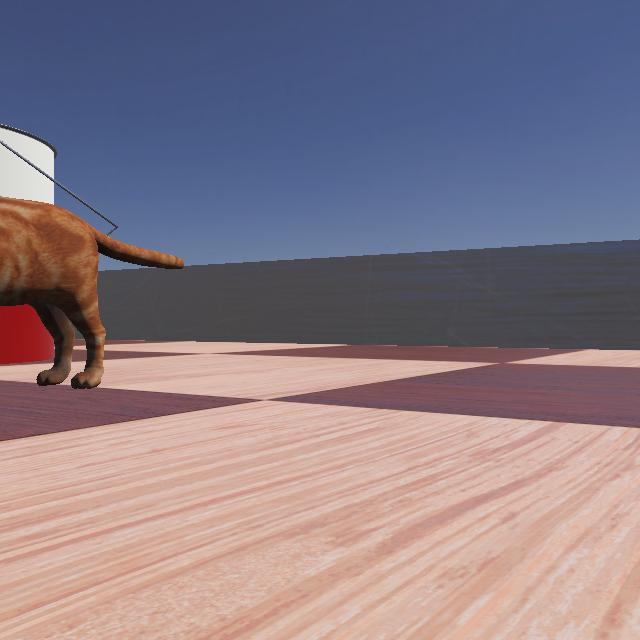cat: (1, 168, 190, 410)
